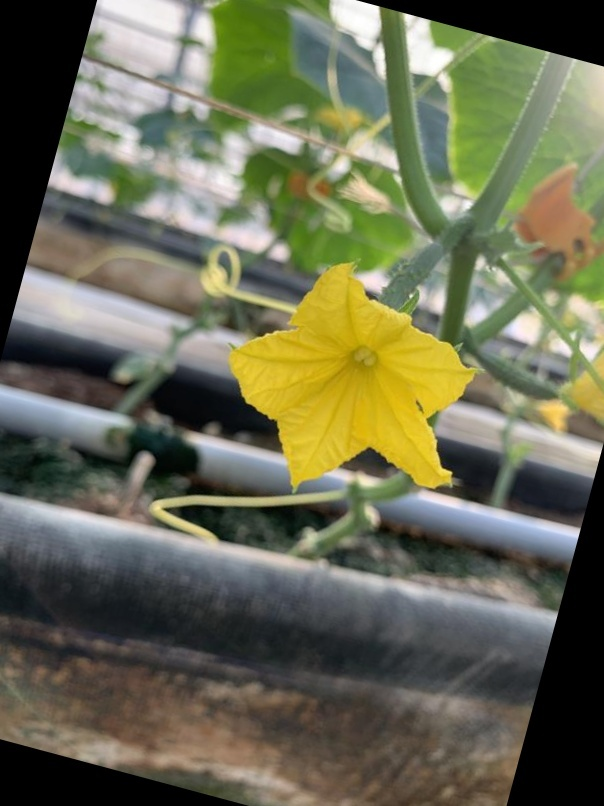flowering: (221, 232, 516, 498)
